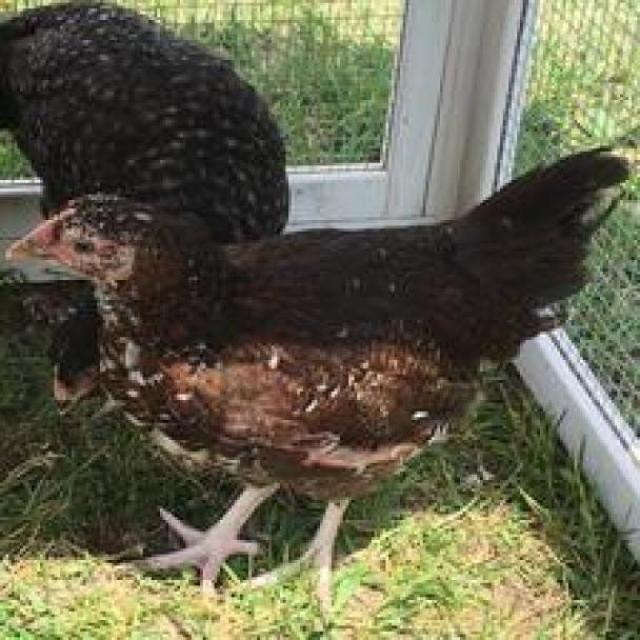Chicken: (3, 183, 640, 615)
